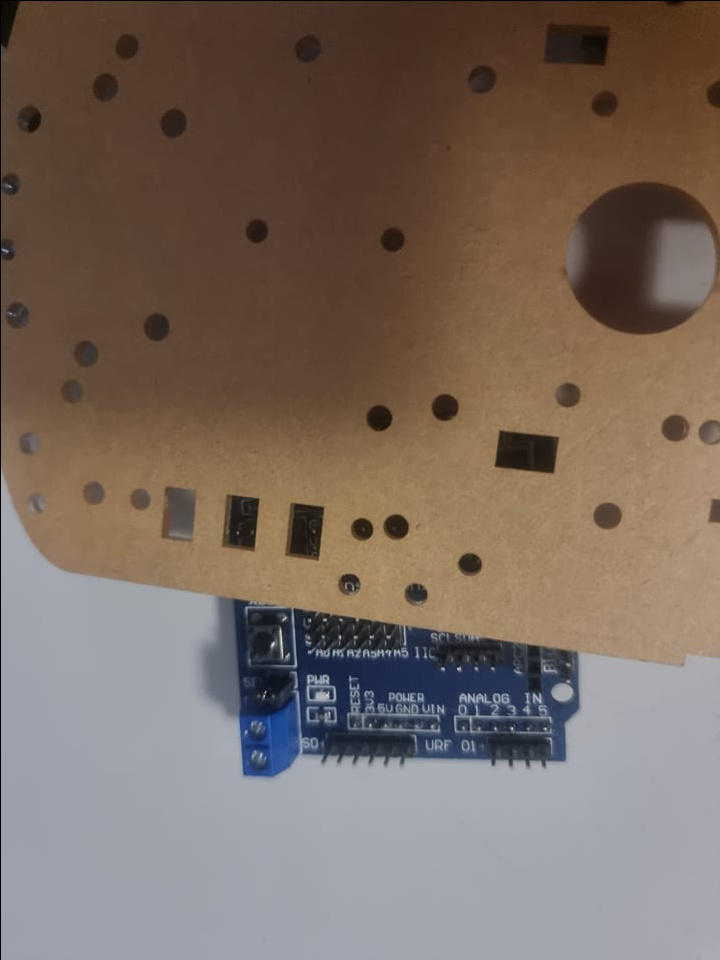5V EXPANSION: (223, 598, 592, 780)
